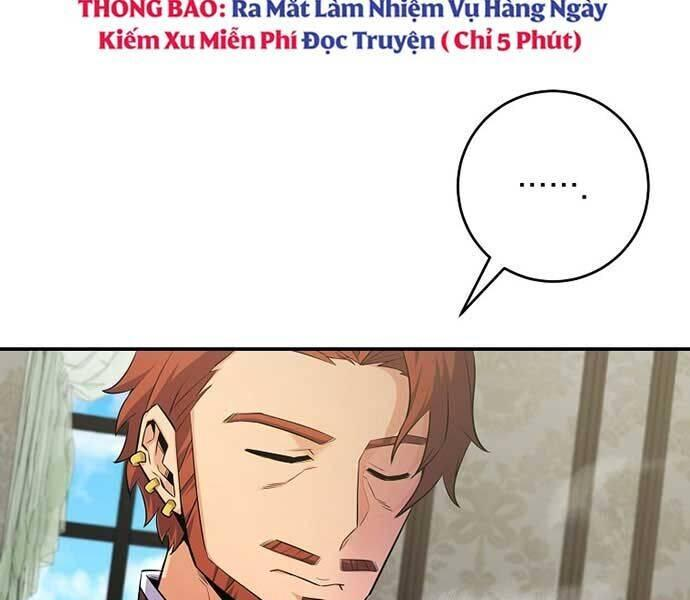quangcao: (75, 0, 607, 55)
